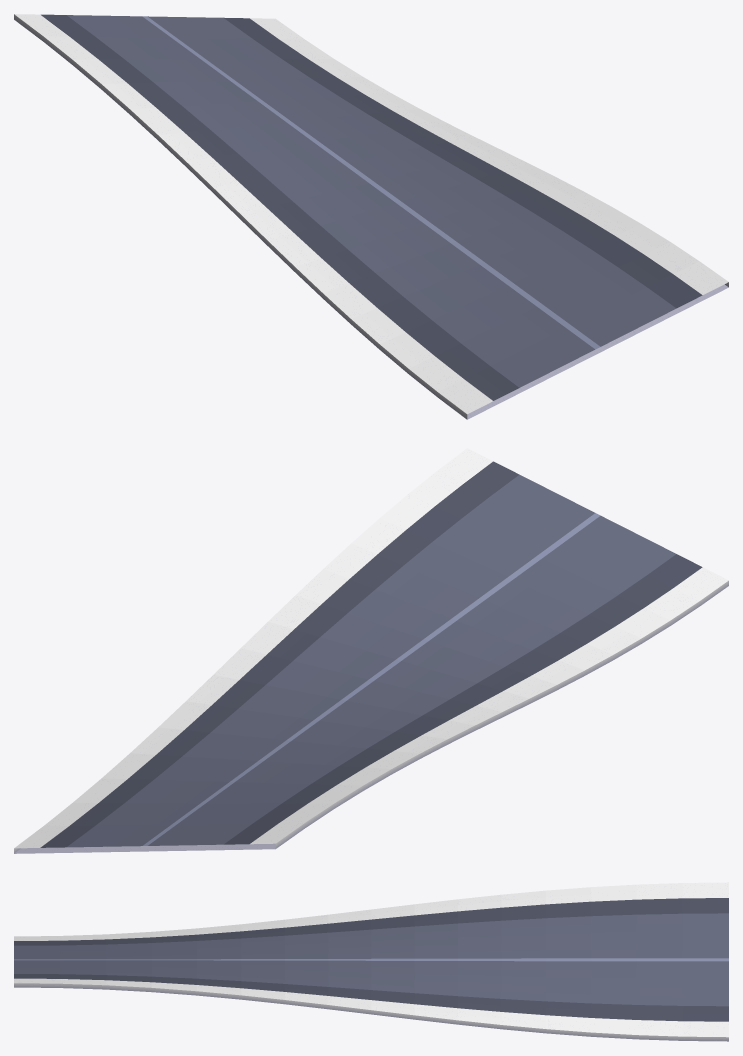
The model's file is road-Straight-HalfBankedLeft-HalfBankedRight-Even-Center-Size3.glb.
3 views of the same model, one above another, from view 1: azimuth 30°, elevation 25°; view 2: azimuth 150°, elevation 25°; view 3: azimuth 270°, elevation 25° (orthographic). The views are drawn at different scales.
Parts seen in each view (by area): view 1: road-Straight-HalfBankedLeft-HalfBankedRight-Even-Center-Siz; view 2: road-Straight-HalfBankedLeft-HalfBankedRight-Even-Center-Siz; view 3: road-Straight-HalfBankedLeft-HalfBankedRight-Even-Center-Siz.
Part boxes in pixels (x1,y1,x2,y2): road-Straight-HalfBankedLeft-HalfBankedRight-Even-Center-Siz: (14, 14, 728, 419); road-Straight-HalfBankedLeft-HalfBankedRight-Even-Center-Siz: (14, 448, 728, 853); road-Straight-HalfBankedLeft-HalfBankedRight-Even-Center-Siz: (14, 882, 728, 1041).
Size of the model in its own units: 1 by 0.27 by 3.
1 material, 1 textured.
